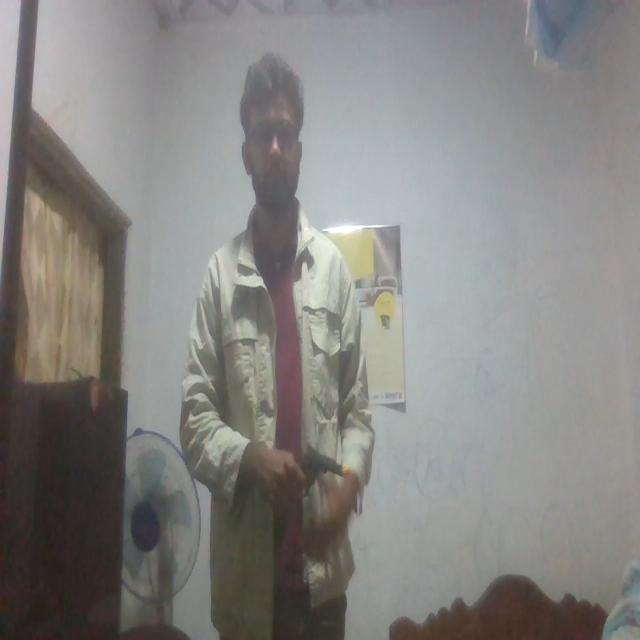Gun_Holder: (291, 444, 347, 499)
Jacket_Wearer: (178, 218, 388, 588)
Person: (179, 58, 378, 640)
